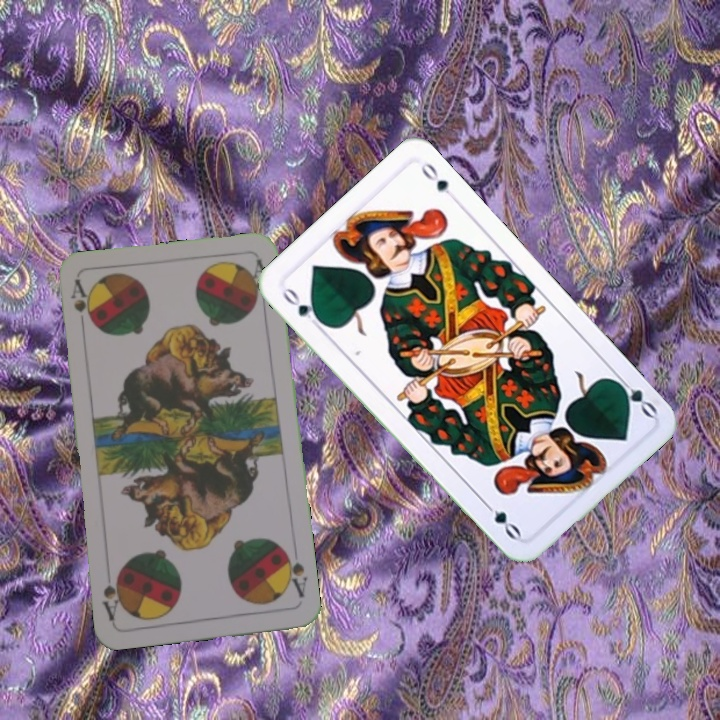GO: (609, 371, 660, 420), (278, 283, 326, 331)
SA: (279, 545, 310, 600), (67, 276, 94, 336)
